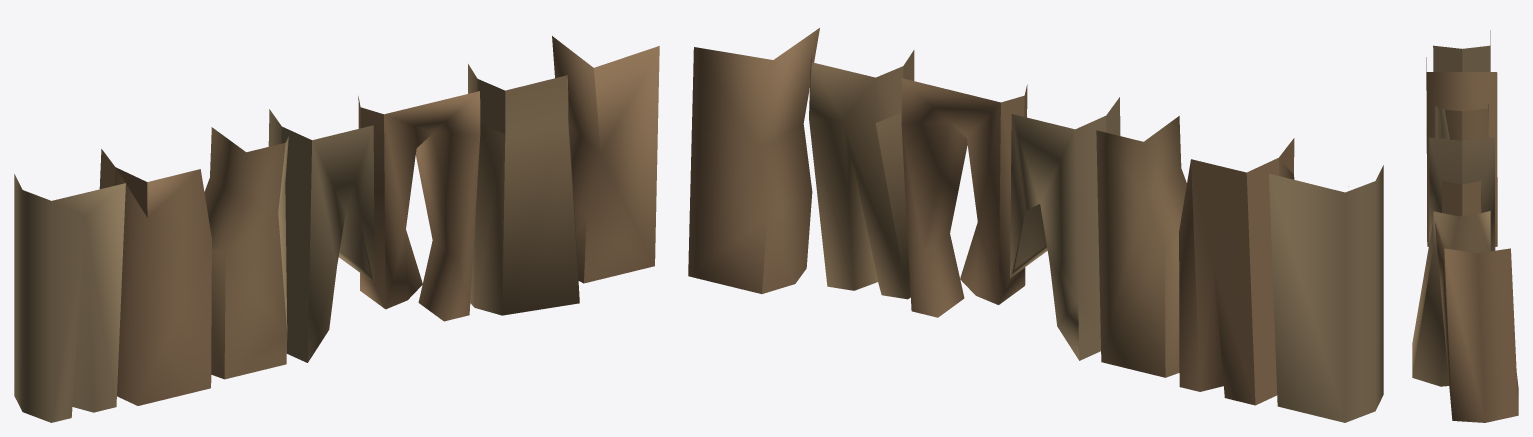
Rendered from rpgpp_av_wall_02_3x1_c.gltf.
3 views of the same model, side by side, from view 1: azimuth 30°, elevation 25°; view 2: azimuth 150°, elevation 25°; view 3: azimuth 270°, elevation 25° (orthographic). The views are drawn at different scales.
Visible parts, largest first — view 1: rpgpp_av_wall_02_3x1_c; view 2: rpgpp_av_wall_02_3x1_c; view 3: rpgpp_av_wall_02_3x1_c.
Part boxes in pixels (box(x1,y1,x2,y2)): rpgpp_av_wall_02_3x1_c: box(14, 36, 659, 422); rpgpp_av_wall_02_3x1_c: box(688, 28, 1383, 422); rpgpp_av_wall_02_3x1_c: box(1412, 30, 1518, 422).
Bounding box in the file's own units: 0.03 × 0.0102 × 0.00564.
Materials: 1 (1 with a texture image).
